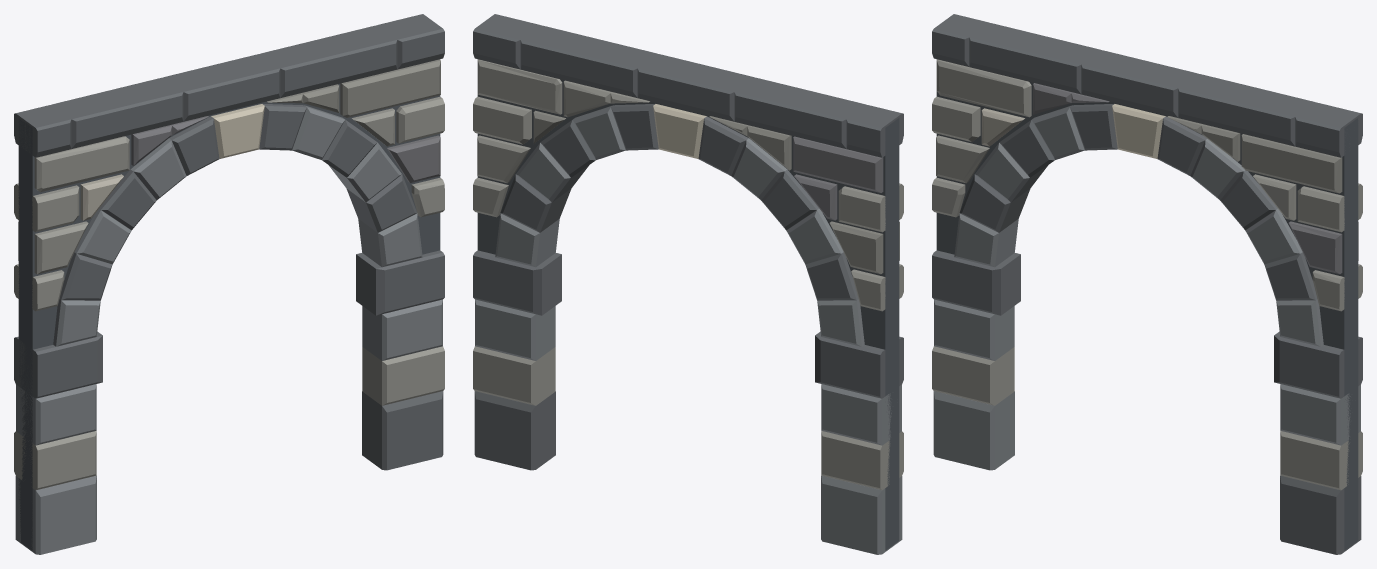
File: SM_LPD_Struct_WallArch_01.fbx
3 views of the same model, side by side, from view 1: azimuth 30°, elevation 25°; view 2: azimuth 150°, elevation 25°; view 3: azimuth 330°, elevation 25° (orthographic).
Visible parts, largest first — view 1: SM_LPD_Struct_WallArch_01; view 2: SM_LPD_Struct_WallArch_01; view 3: SM_LPD_Struct_WallArch_01.
Part boxes in pixels (x1,y1,x2,y2): SM_LPD_Struct_WallArch_01: [14, 14, 444, 554]; SM_LPD_Struct_WallArch_01: [473, 14, 903, 554]; SM_LPD_Struct_WallArch_01: [932, 14, 1362, 554].
Bounding box in the file's own units: 4 × 4 × 0.4.
